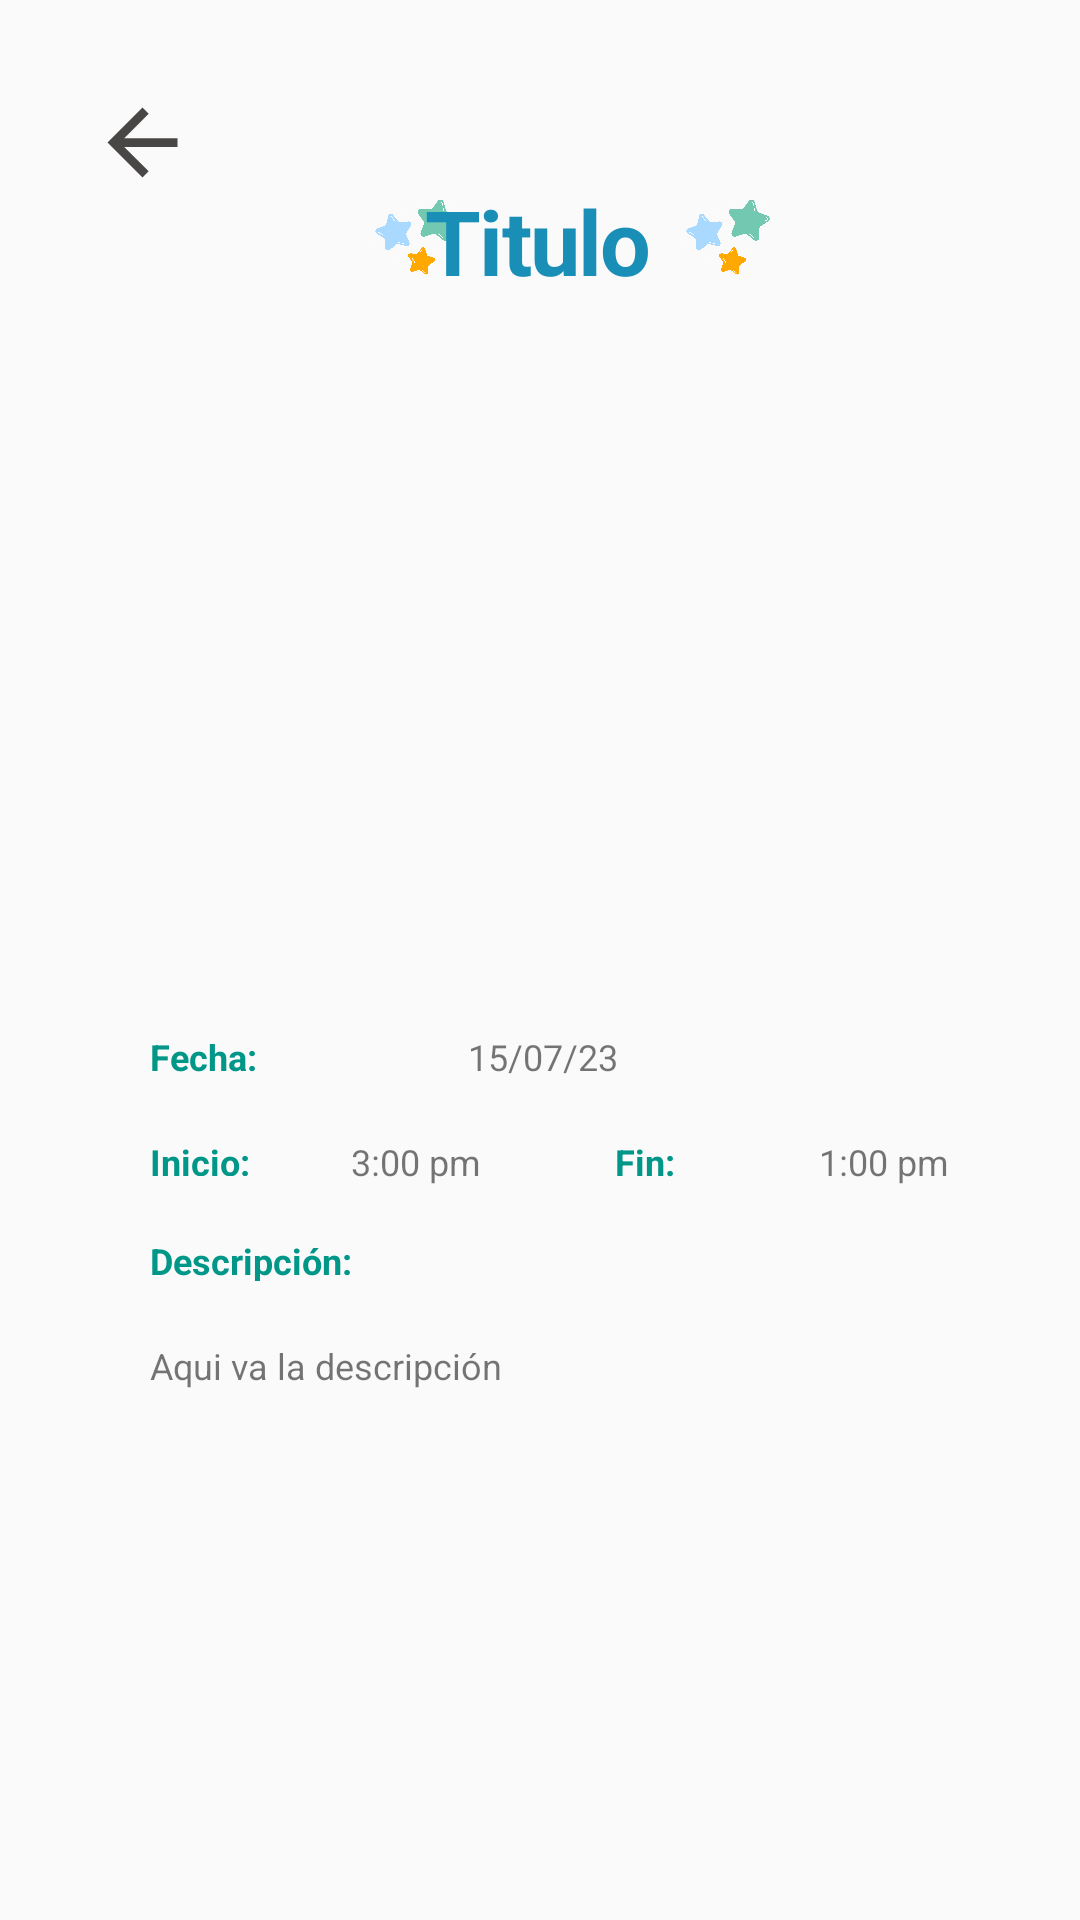

Icons on this 1080*1920 Android screen, each with its box as (x1, y1, x2, y2):
arrow back: (107, 107, 178, 178)
